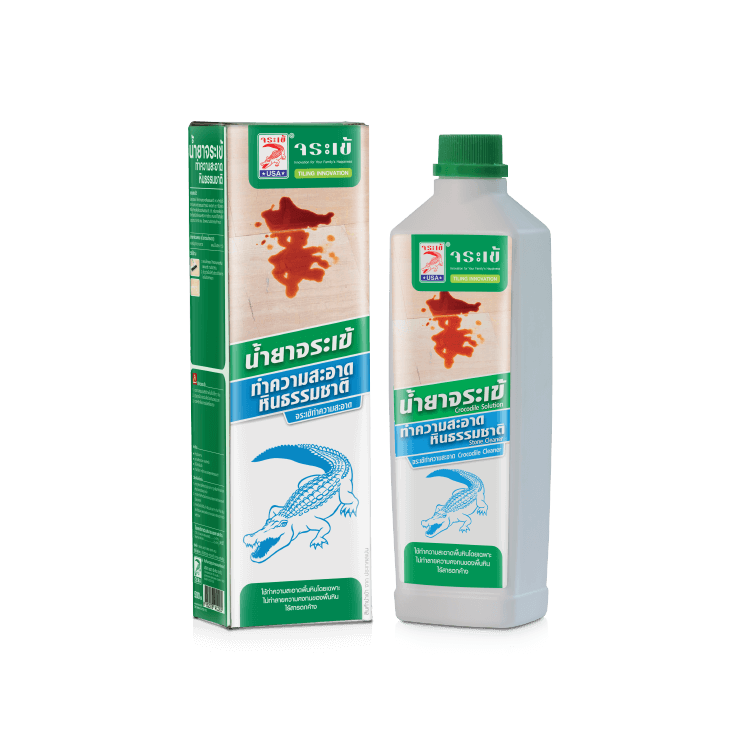Cleaning_solution: (383, 132, 559, 634)
